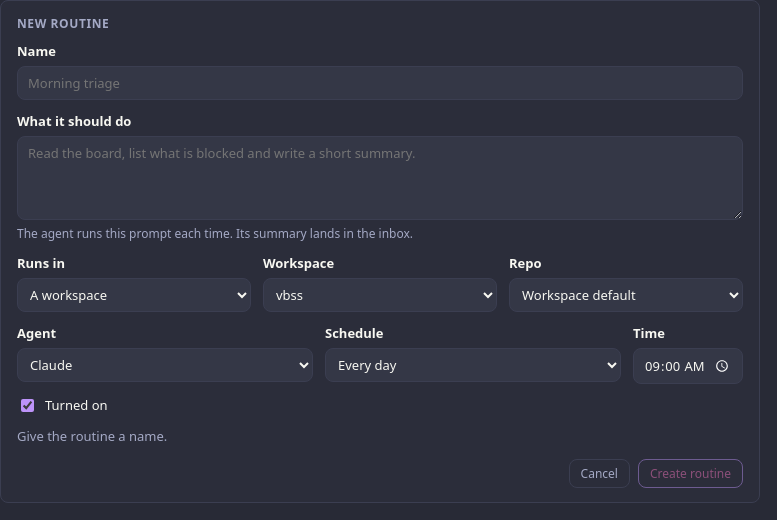
the problem line follows the form and Create is enabled once everything is valid
Type "Triage" into the field with placeholder "Morning triage" at (380, 83), box [17,66,743,100]
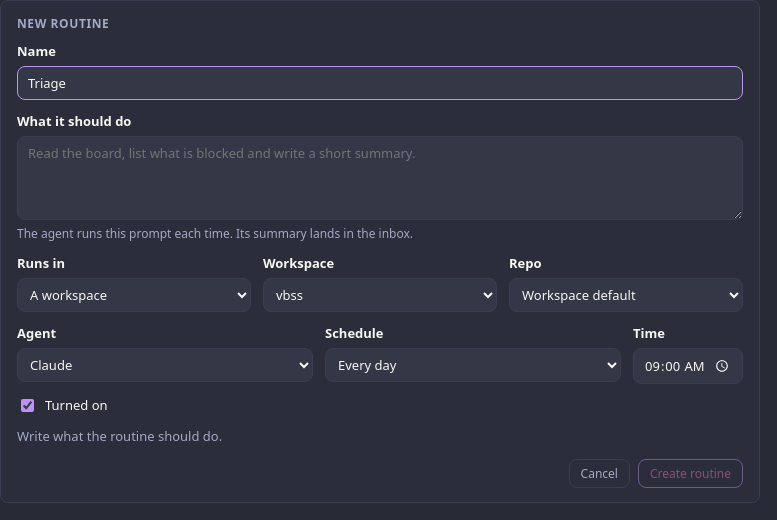
Expected: the text "Write what the routine should do." is shown, [17,427,222,445]
Type "Check" into the text box with placeholder "Read the board, list what is blocked and write a short summary." at (380, 178), box [17,136,743,220]
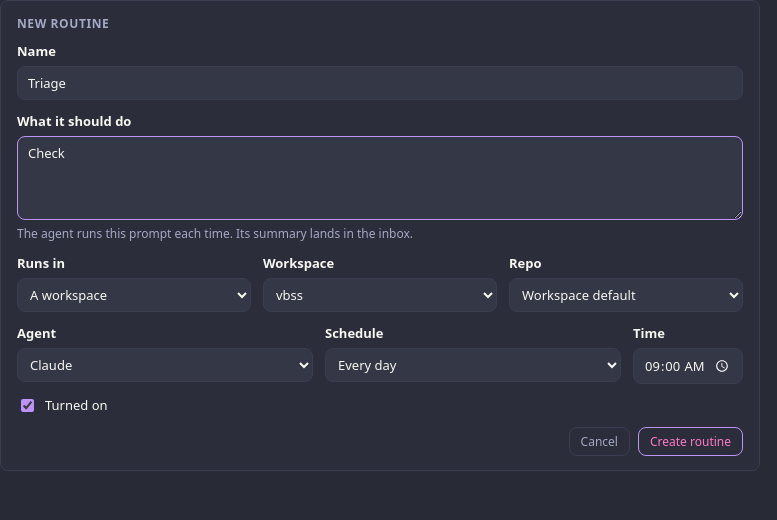
Expected: the text "Write what the routine should do." is gone
Expected: the button "Create routine" is enabled, [638,427,743,456]
